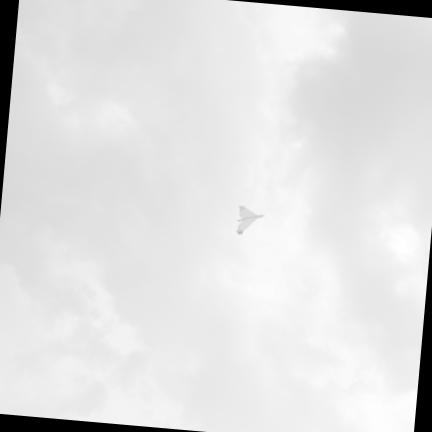Shahed: (236, 207, 263, 234)
